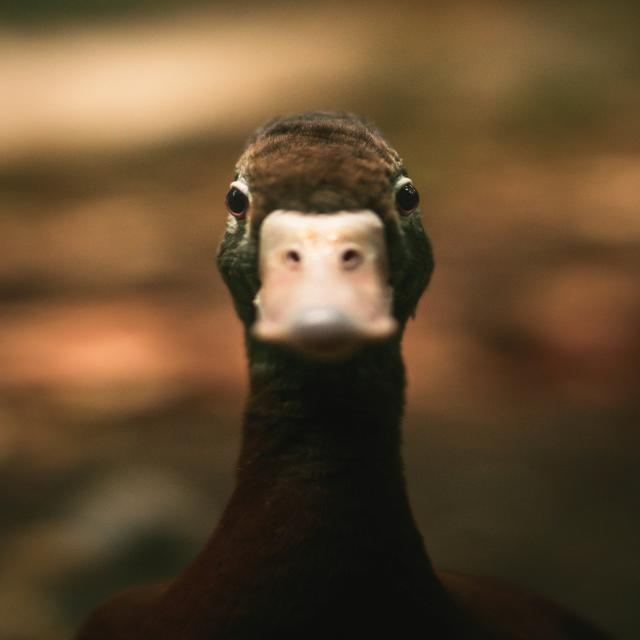ducks: (62, 88, 619, 640)
